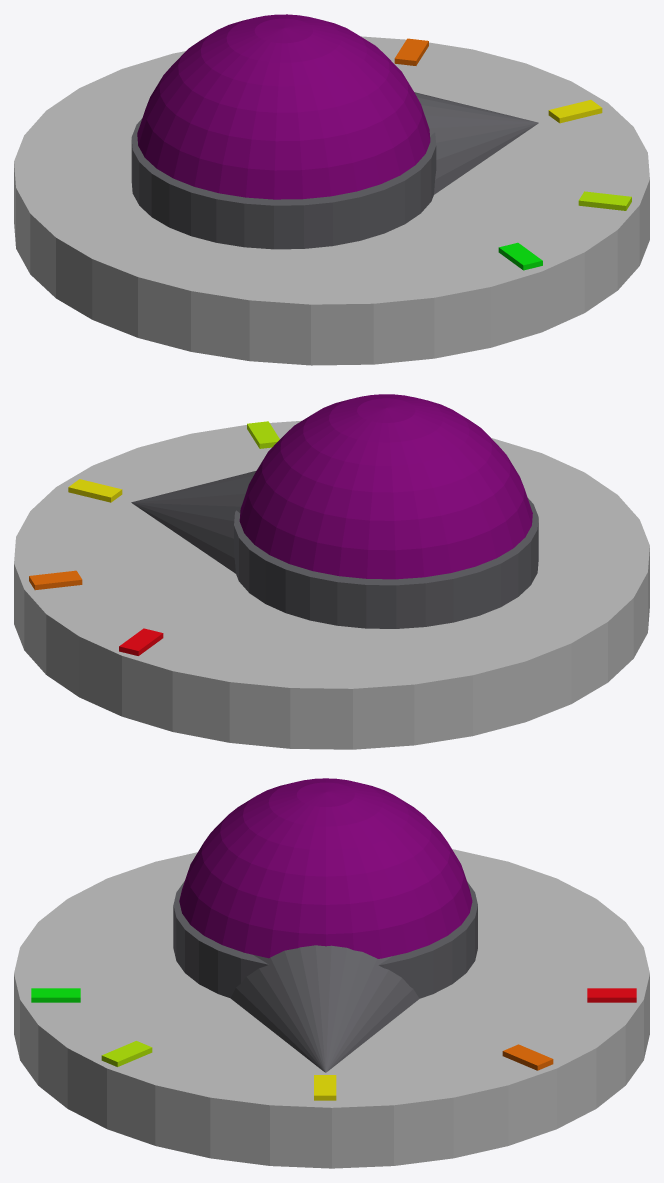
File: Knob-test.fbx
The picture shows the model from 3 angles, top to bottom: view 1: azimuth 30°, elevation 25°; view 2: azimuth 150°, elevation 25°; view 3: azimuth 270°, elevation 25°; orthographic projection.
Parts seen in each view (by area): view 1: Cylinder.001, Sphere.001, Cylinder, Cone, Cube, Cube.004, Cube.001, Cube.003; view 2: Cylinder.001, Sphere.001, Cylinder, Cone, Cube, Cube.003, Cube.002, Cube.004; view 3: Cylinder.001, Sphere.001, Cone, Cylinder, Cube.003, Cube.004, Cube.001, Cube.002, Cube.
Part boxes in pixels (<box>): Cylinder.001: <box>14,36,649,365</box>; Sphere.001: <box>137,14,430,199</box>; Cylinder: <box>131,118,436,249</box>; Cone: <box>414,92,538,194</box>; Cube: <box>548,100,602,123</box>; Cube.004: <box>578,191,631,210</box>; Cube.001: <box>498,242,542,270</box>; Cube.003: <box>394,38,428,65</box>; Cylinder.001: <box>14,420,649,749</box>; Sphere.001: <box>239,394,532,579</box>; Cylinder: <box>234,498,538,628</box>; Cone: <box>131,470,256,573</box>; Cube: <box>68,479,122,502</box>; Cube.003: <box>29,570,82,590</box>; Cube.002: <box>119,628,163,655</box>; Cube.004: <box>247,421,279,448</box>; Cylinder.001: <box>14,849,649,1168</box>; Sphere.001: <box>179,778,472,958</box>; Cone: <box>230,945,419,1072</box>; Cylinder: <box>173,881,477,998</box>; Cube.003: <box>502,1044,553,1070</box>; Cube.004: <box>101,1041,152,1066</box>; Cube.001: <box>31,988,80,1002</box>; Cube.002: <box>587,988,636,1002</box>; Cube: <box>314,1075,336,1100</box>.
Bounding box in the file's own units: 303 × 114 × 303.
